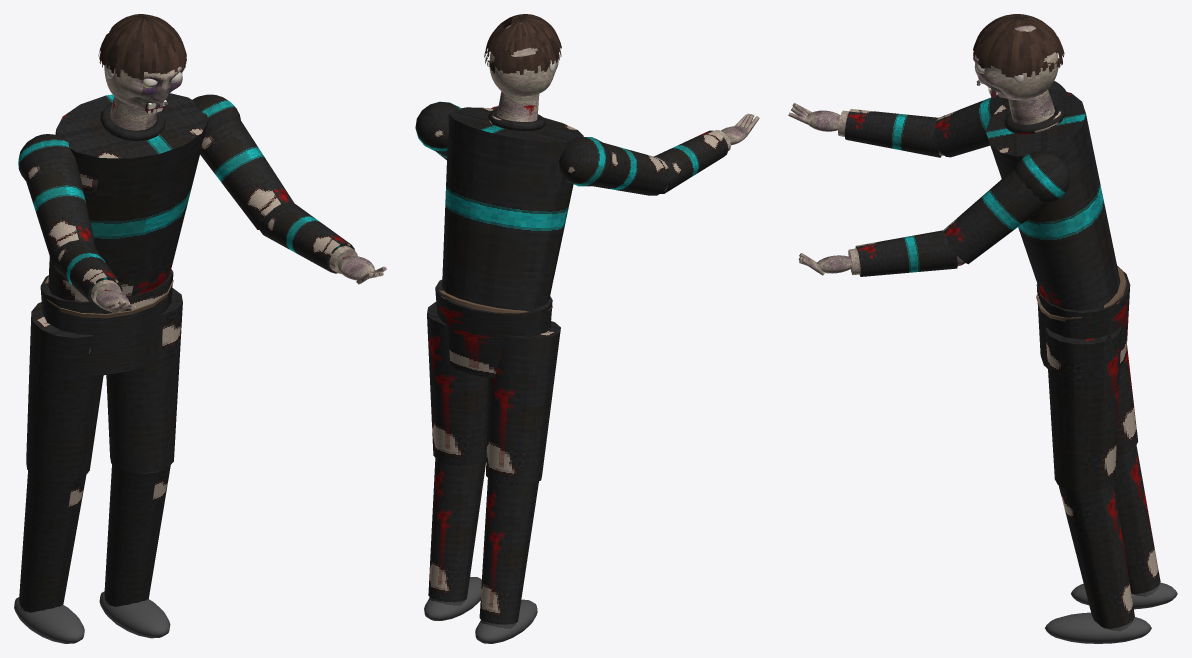
Rendered from Zombie_104.glb.
The picture shows the model from 3 angles, left to right: view 1: azimuth 30°, elevation 25°; view 2: azimuth 150°, elevation 25°; view 3: azimuth 270°, elevation 25°; orthographic projection. The views are drawn at different scales.
Visible parts, largest first — view 1: Zombie_104, object 43, object 12, object 4, object 18, object 13; view 2: Zombie_104, object 43, object 4, object 18; view 3: Zombie_104, object 43, object 12, object 4, object 18, object 5.
Boxes of the visible parts, box(x1,y1,x2,y2) form: Zombie_104: box(14, 93, 293, 643); object 43: box(98, 14, 186, 77); object 12: box(259, 202, 354, 273); object 4: box(52, 240, 122, 307); object 18: box(104, 62, 182, 110); object 13: box(338, 256, 374, 280); Zombie_104: box(415, 91, 670, 643); object 43: box(484, 14, 561, 72); object 4: box(654, 130, 728, 193); object 18: box(489, 22, 558, 96); Zombie_104: box(933, 81, 1177, 643); object 43: box(973, 14, 1064, 75); object 12: box(855, 230, 957, 276); object 4: box(844, 109, 941, 157); object 18: box(973, 25, 1058, 100); object 5: box(807, 110, 840, 131).
Bounding box in the file's own units: 0.7384 × 1.65 × 0.9558.
Materials: 16 (6 with a texture image).
